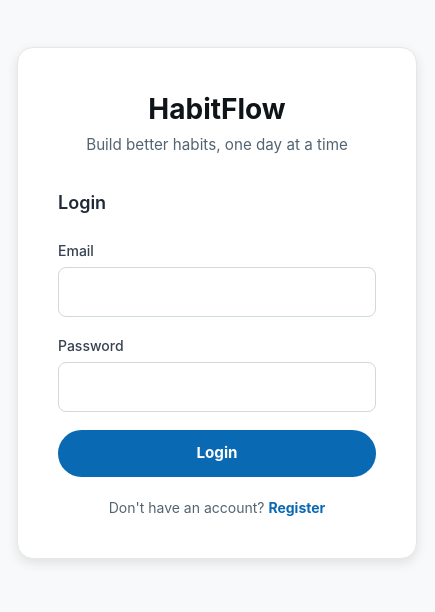
Authentication › should show error for invalid login
The image size is (435, 612).
In the field with id "email": (217, 292) [58,267,376,317], type "invalid@example.com"
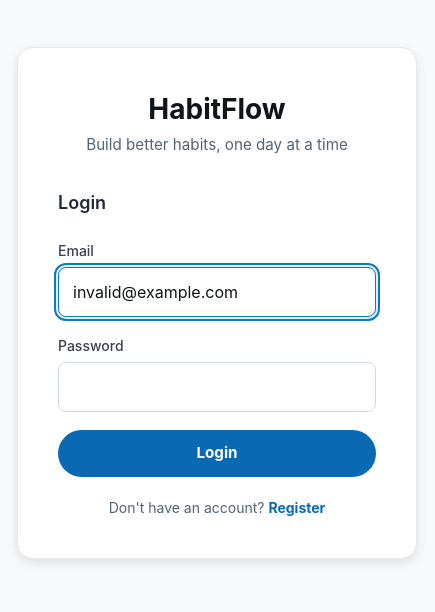
In the password field labelled "Password": (217, 387) [58,362,376,412], type "wrongpassword"
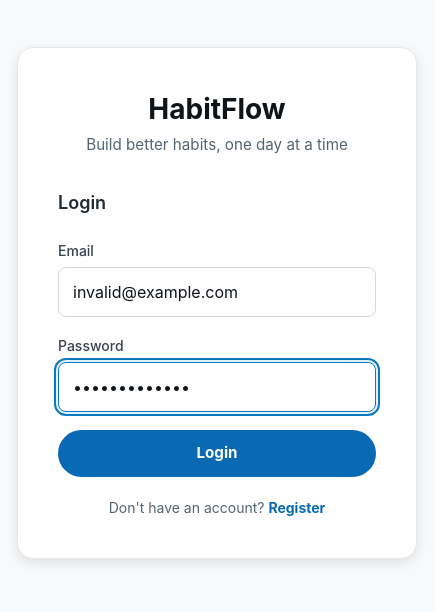
Click the submit button: click(217, 454) [58,430,376,477]
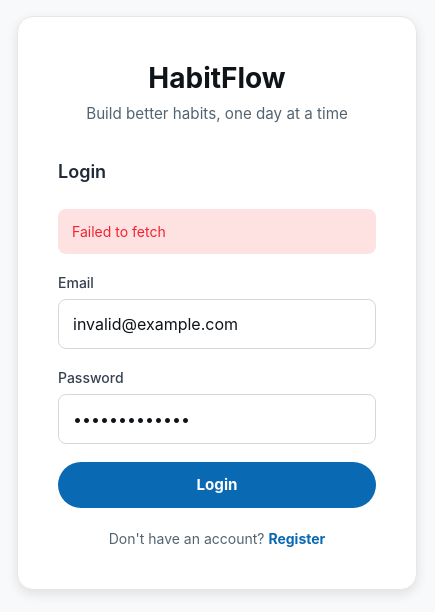
Now the text "Failed to fetch" is shown, box [58,208,376,254]
